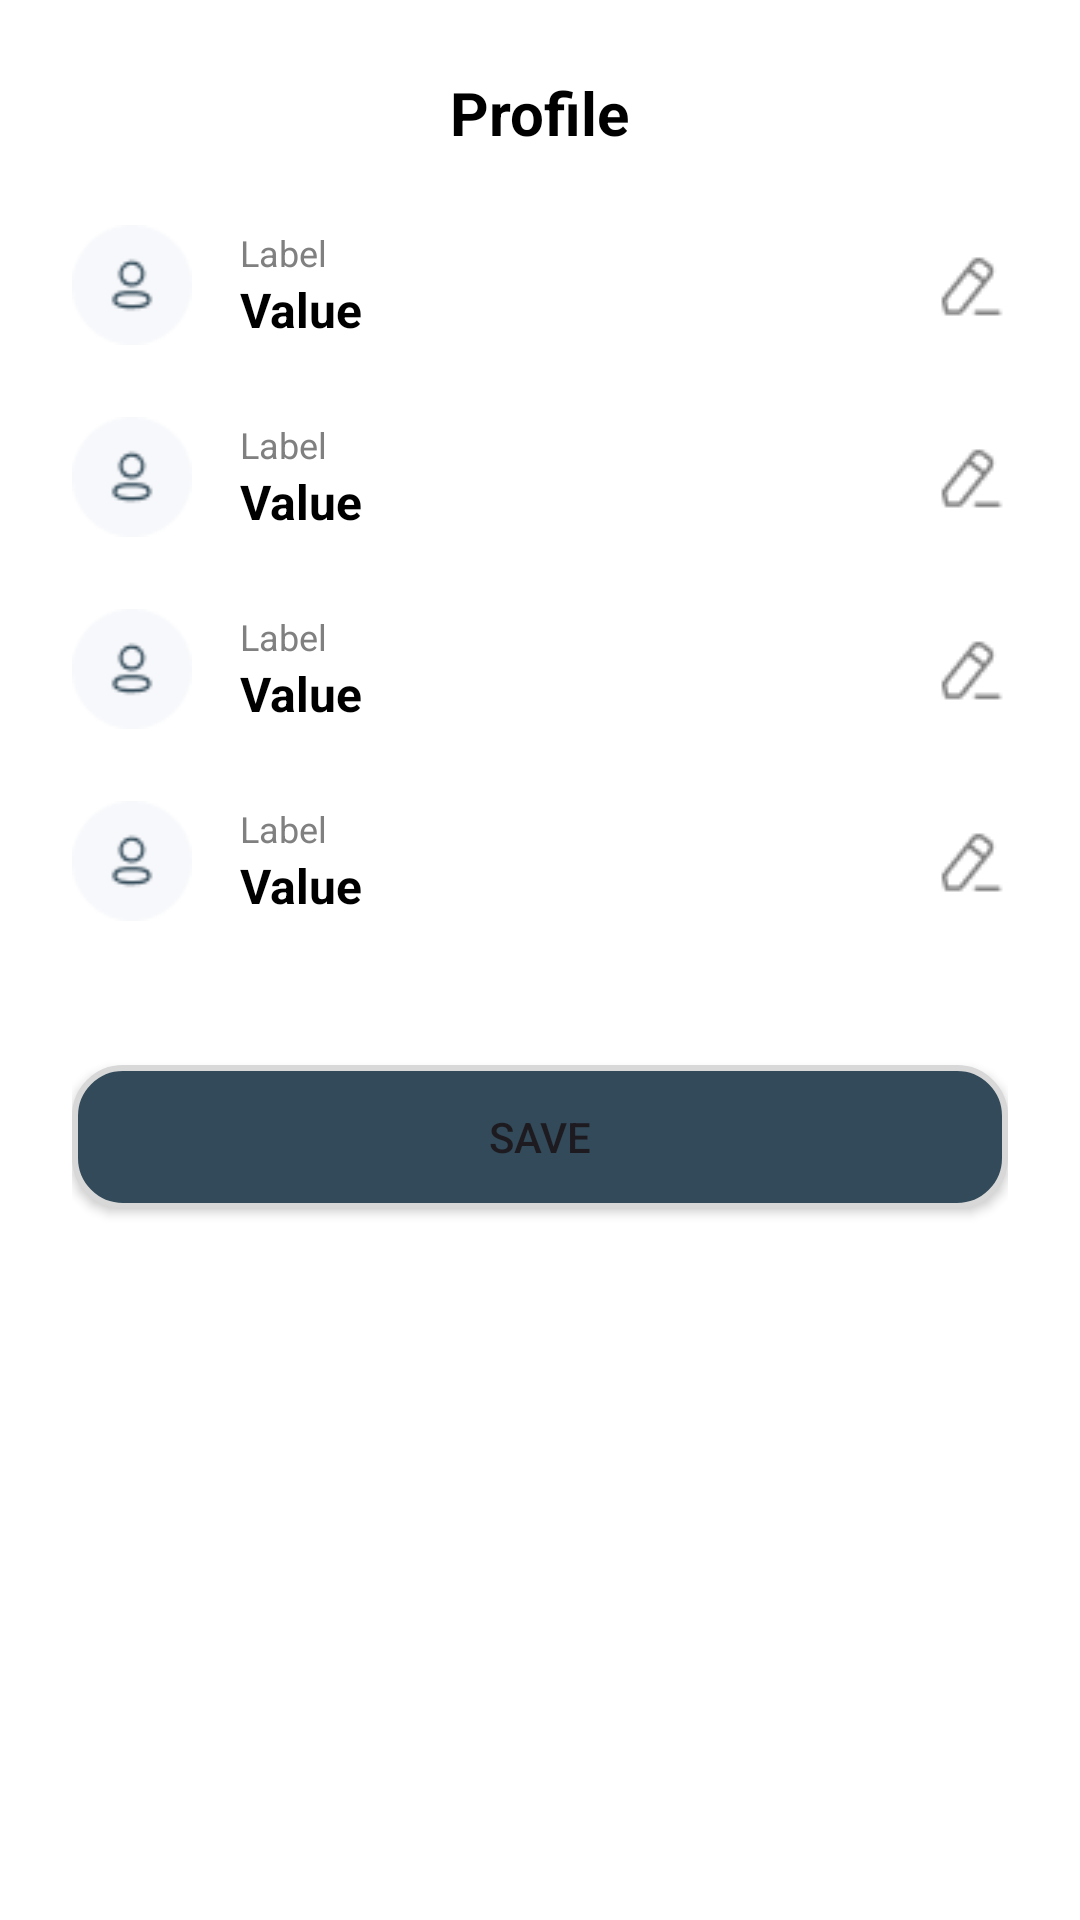

Point at icon controls on the screen. Image size 1080*1920, points as point (x, y).
edit: point (971, 286), point (971, 478), point (971, 670), point (971, 862)
user: point (132, 285), point (132, 477), point (132, 669), point (132, 861)
